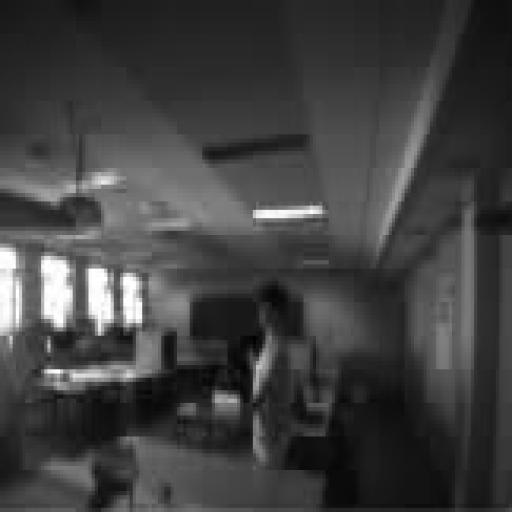human: (253, 282, 293, 465)
